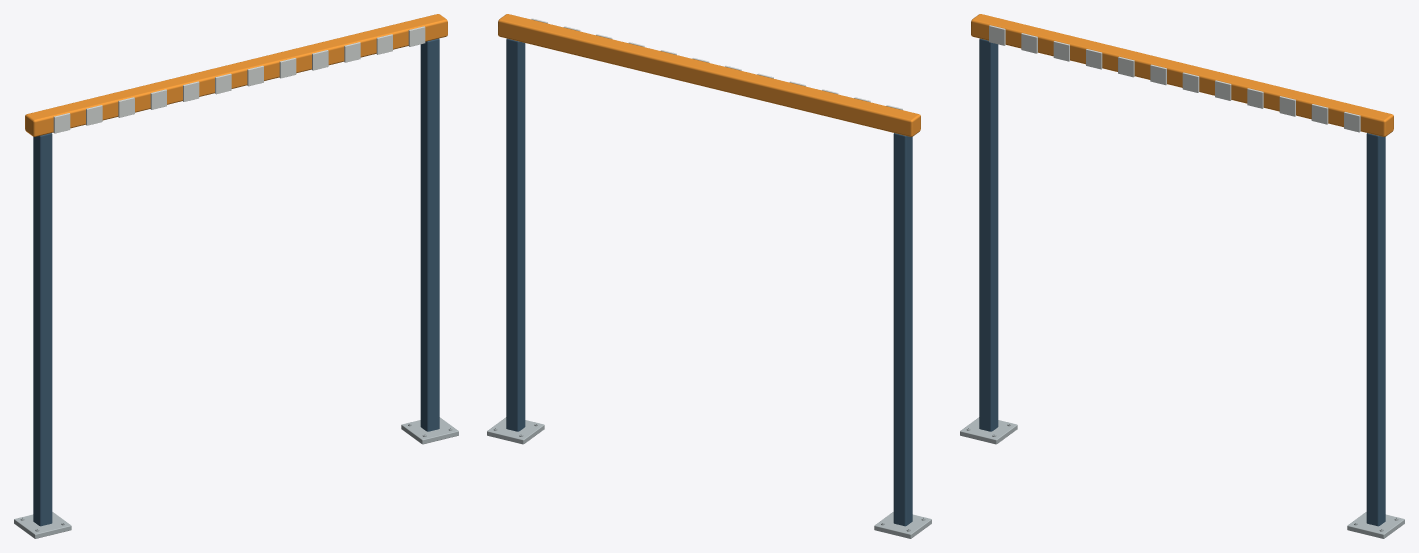
The model's file is container-inspection-and-customs-yard-container-inspec-9688a019__29298.glb.
3 views of the same model, side by side, from view 1: azimuth 30°, elevation 25°; view 2: azimuth 150°, elevation 25°; view 3: azimuth 330°, elevation 25° (orthographic).
Parts seen in each view (by area): view 1: container-inspection-and-customs-yard-height-gauge; view 2: container-inspection-and-customs-yard-height-gauge; view 3: container-inspection-and-customs-yard-height-gauge.
Part boxes in pixels (x1,y1,x2,y2): container-inspection-and-customs-yard-height-gauge: (14, 14, 458, 538); container-inspection-and-customs-yard-height-gauge: (487, 14, 931, 538); container-inspection-and-customs-yard-height-gauge: (960, 14, 1404, 538).
Bounding box in the file's own units: 4.6 × 4.28 × 0.3998.
